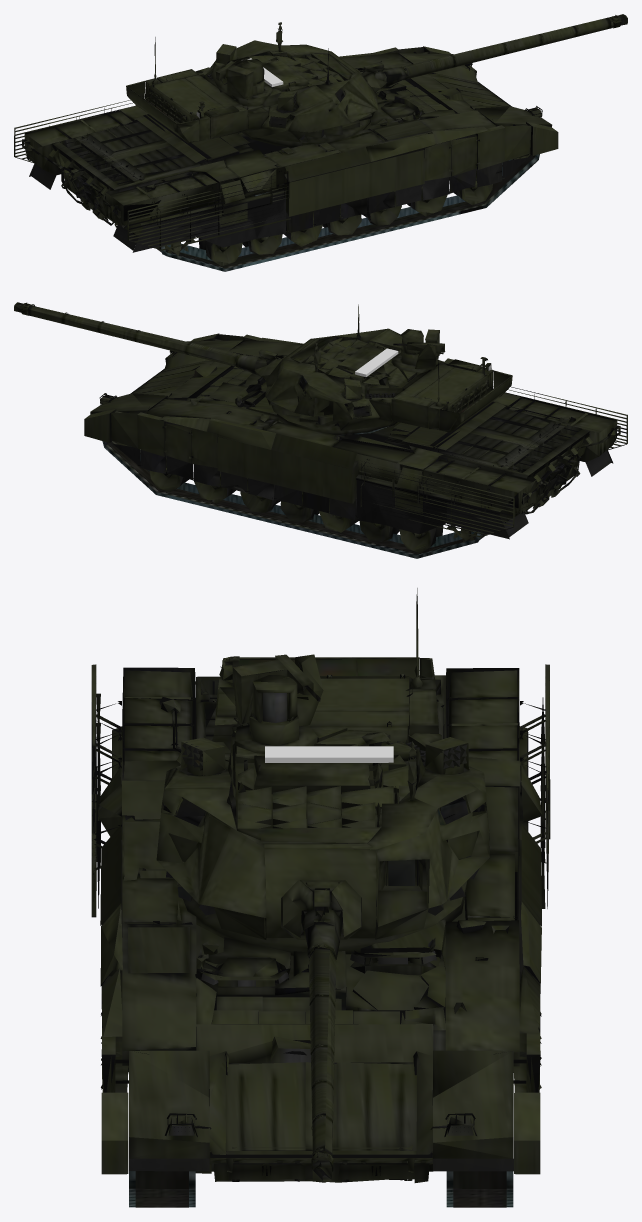
The model's file is armata.glb.
3 renders of one model, top to bottom at view 1: azimuth 30°, elevation 25°; view 2: azimuth 150°, elevation 25°; view 3: azimuth 270°, elevation 25°, orthographic. The views are drawn at different scales.
Visible parts, largest first — view 1: g_armata_hull, g_armata_turret, g_armata_gun; view 2: g_armata_hull, g_armata_turret, g_armata_gun; view 3: g_armata_hull, g_armata_turret, g_armata_gun.
Part boxes in pixels (x1=…): g_armata_hull: x1=14, y1=46, x2=558, y2=271; g_armata_turret: x1=126, y1=22, x2=387, y2=147; g_armata_gun: x1=361, y1=14, x2=627, y2=88; g_armata_hull: x1=84, y1=333, x2=627, y2=558; g_armata_turret: x1=255, y1=304, x2=512, y2=435; g_armata_gun: x1=14, y1=302, x2=268, y2=375; g_armata_hull: x1=91, y1=664, x2=550, y2=1207; g_armata_turret: x1=156, y1=588, x2=489, y2=955; g_armata_gun: x1=301, y1=885, x2=342, y2=1182.
Bounding box in the file's own units: 10.8 × 3.39 × 3.84.
4 materials, 3 textured.
